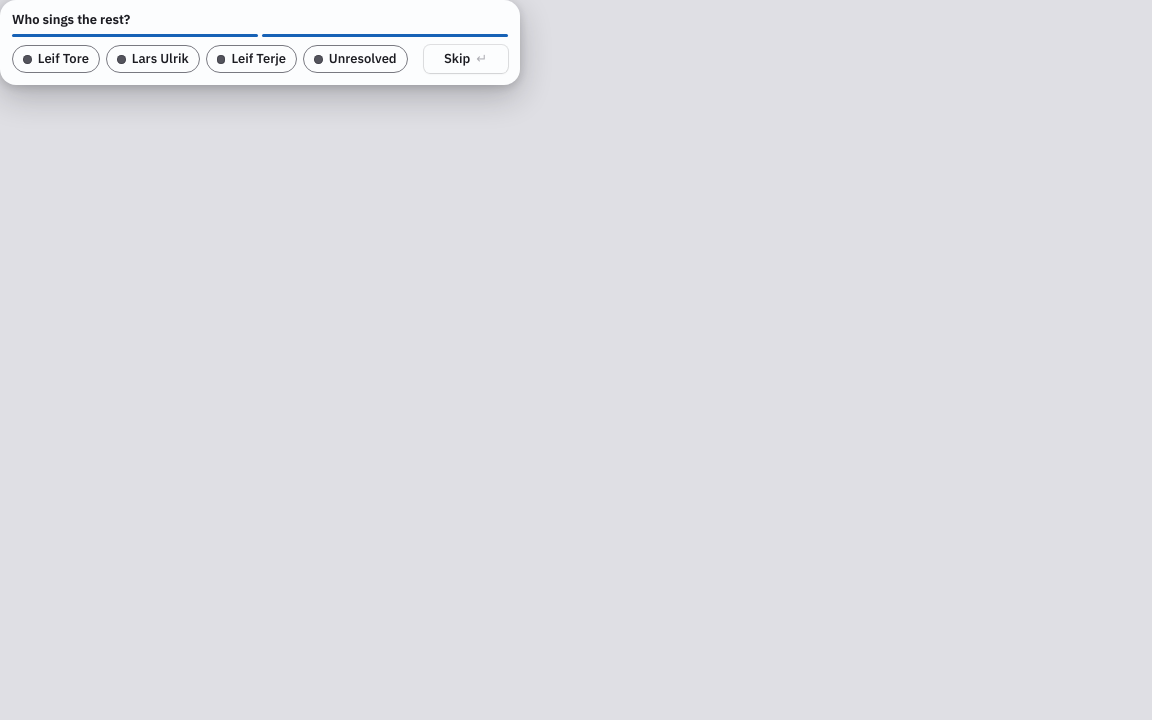
PerformerPicker step bar › drops the empty answer out of the contrast tier and puts it back on a real one
Expected: the button "Skip ↵" is shown, [424, 45, 508, 74]
Expected: the button "Skip ↵" is enabled, [424, 45, 508, 74]
Step 1. Click the button "Leif Tore" → (56,59), box [12, 45, 100, 73]
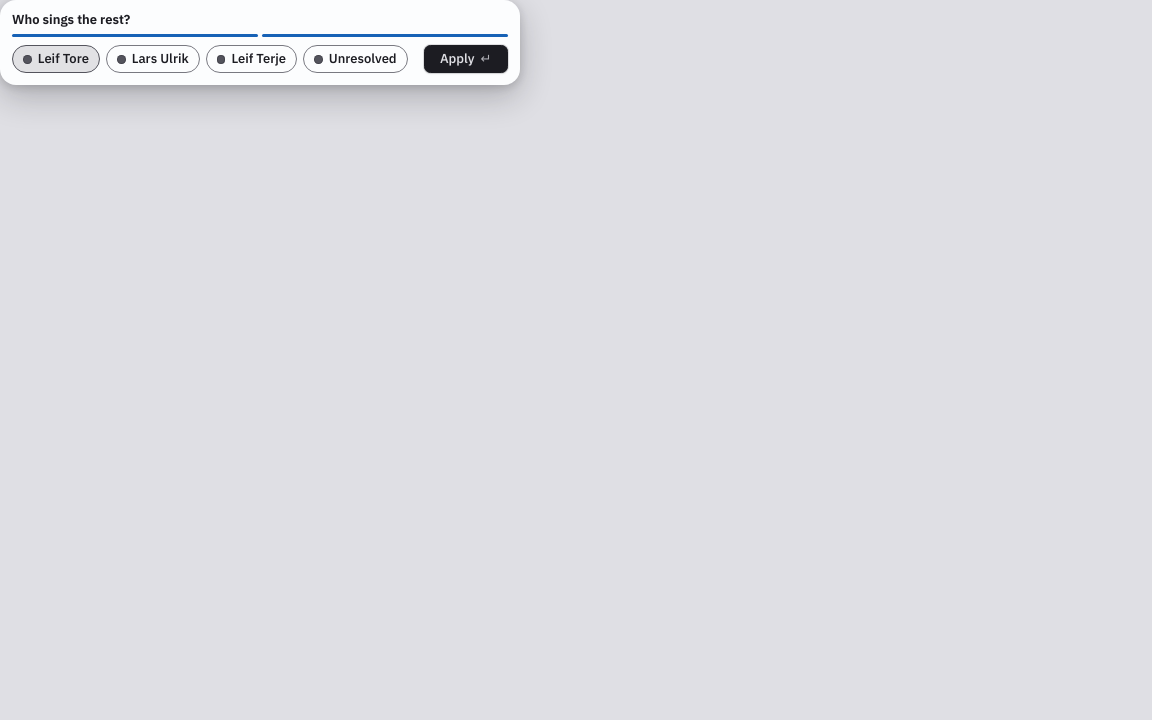
Expected: the button "Apply ↵" is shown, [424, 45, 508, 74]
